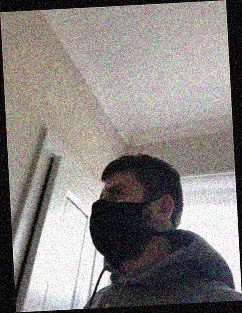with_mask: (88, 179, 148, 261)
